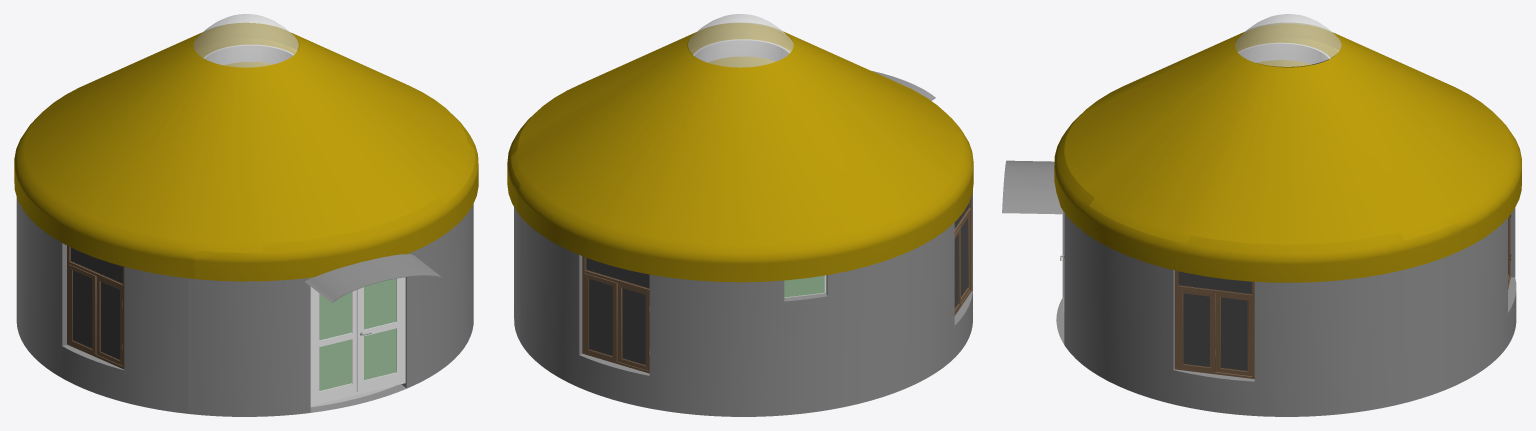
File: exterior.glb
The picture shows the model from 3 angles, left to right: view 1: azimuth 30°, elevation 25°; view 2: azimuth 150°, elevation 25°; view 3: azimuth 270°, elevation 25°; orthographic projection.
Visible parts, largest first — view 1: Roof cover, Wall cover, Glass, Charcoal Blue, [Translucent Glass Sky Reflection]2, Joinery, Roof frame; view 2: Roof cover, Wall cover, Glass, [Translucent Glass Sky Reflection]2, Joinery, Roof frame; view 3: Roof cover, Wall cover, Glass, [Translucent Glass Sky Reflection]2, Joinery, Roof frame.
Boxes of the visible parts, x1=… form: Roof cover: x1=14, y1=22, x2=478, y2=281; Wall cover: x1=16, y1=197, x2=473, y2=416; Glass: x1=71, y1=247, x2=396, y2=390; Charcoal Blue: x1=310, y1=277, x2=405, y2=405; [Translucent Glass Sky Reflection]2: x1=193, y1=14, x2=298, y2=67; Joinery: x1=17, y1=245, x2=455, y2=416; Roof frame: x1=118, y1=44, x2=294, y2=266; Roof cover: x1=507, y1=23, x2=973, y2=282; Wall cover: x1=514, y1=70, x2=972, y2=416; Glass: x1=586, y1=203, x2=969, y2=364; [Translucent Glass Sky Reflection]2: x1=688, y1=14, x2=793, y2=67; Joinery: x1=514, y1=195, x2=972, y2=416; Roof frame: x1=693, y1=39, x2=790, y2=62; Roof cover: x1=1054, y1=23, x2=1521, y2=282; Wall cover: x1=1002, y1=160, x2=1516, y2=416; Glass: x1=1178, y1=218, x2=1508, y2=370; [Translucent Glass Sky Reflection]2: x1=1235, y1=14, x2=1341, y2=66; Joinery: x1=1056, y1=214, x2=1511, y2=416; Roof frame: x1=1238, y1=42, x2=1330, y2=64.
Size of the model in its own units: 7.1 by 5.07 by 7.91.
